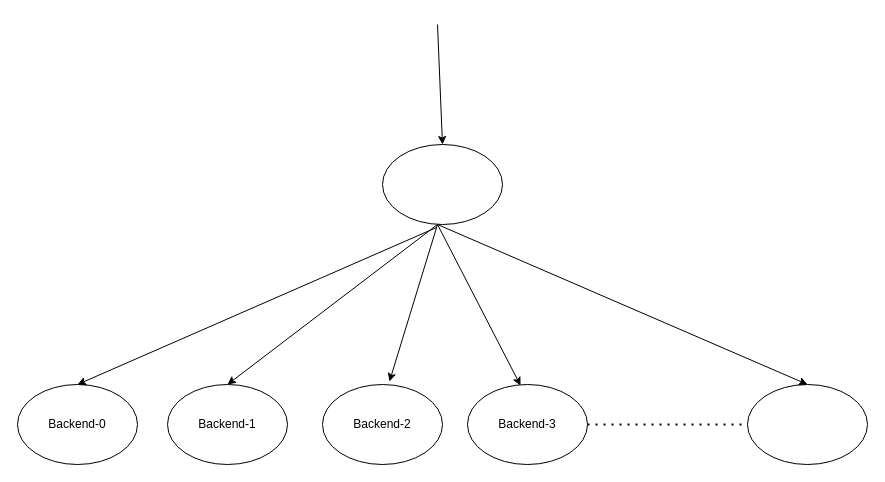
Image size: 885x482. Some labels were removed from this diagram. Here are the shapes that lost their labels. From the top down, the box of each, then its label:
(382, 144, 502, 224): Load Balancer
(746, 384, 868, 464): Backend-N
